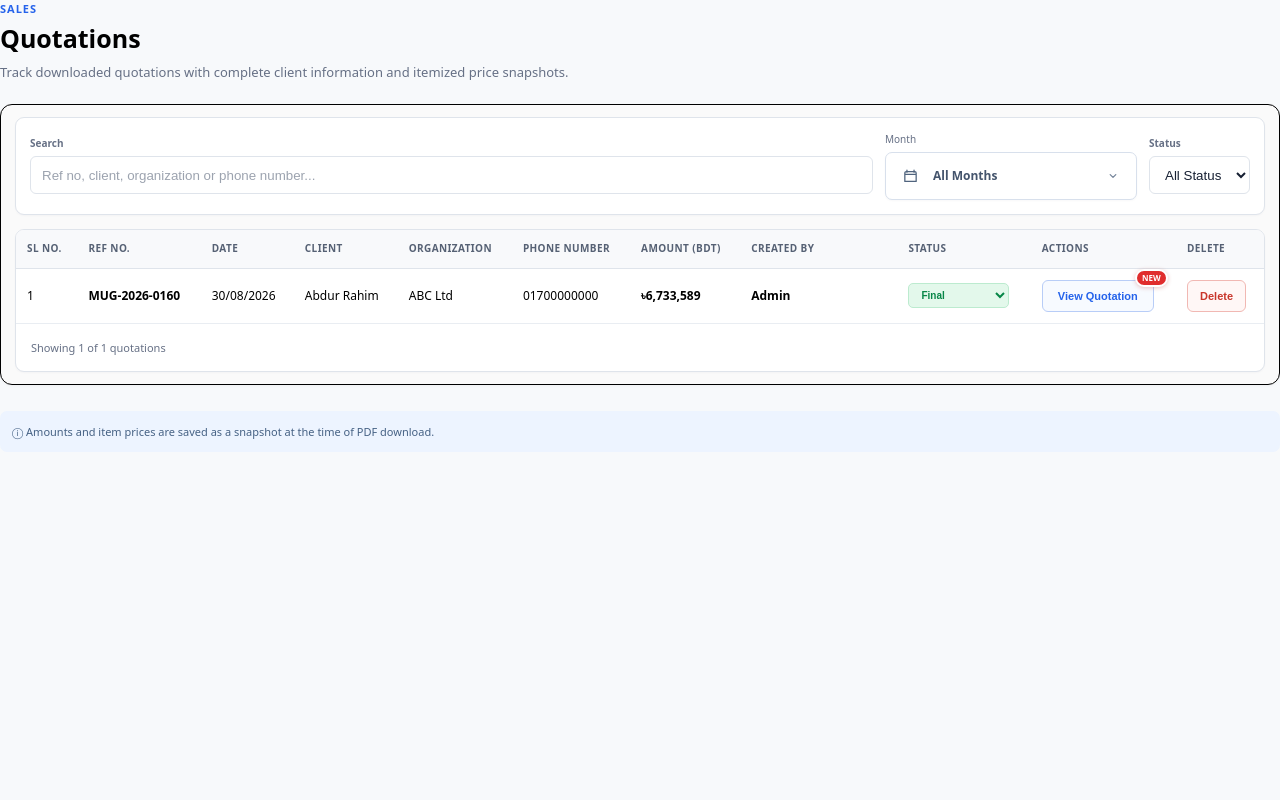
it: opens quotation details in a constrained modal preview and closes it with Escape
The width and height of the screenshot is (1280, 800).
Expected: the heading "Quotation Details" is not shown
Click the button "View Quotation" at (1098, 296), box [1042,280,1154,312]
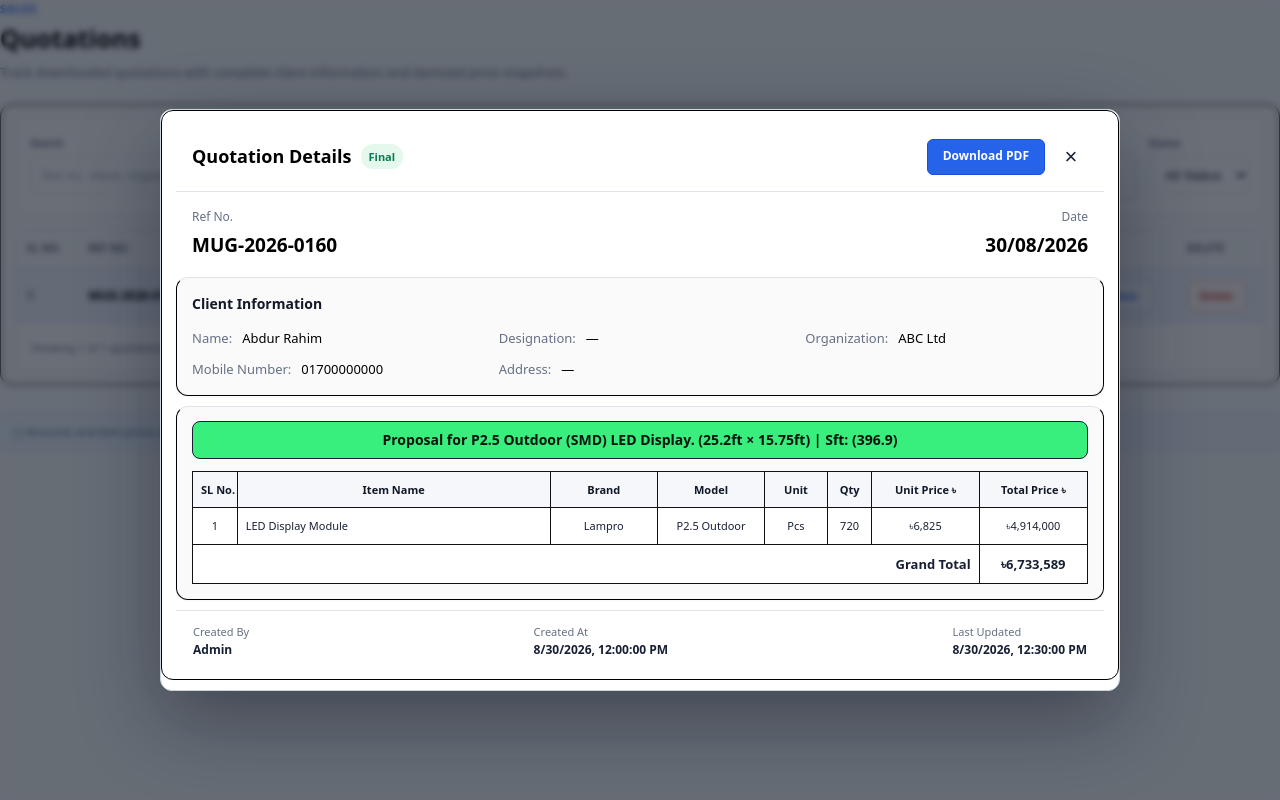
Expected: the heading "Quotation Details" is shown, [192,143,352,170]
Expected: the element that starts with "Name:" is shown, [192,329,946,378]
Expected: the text "Name:" is shown, [192,328,232,348]
Press Escape
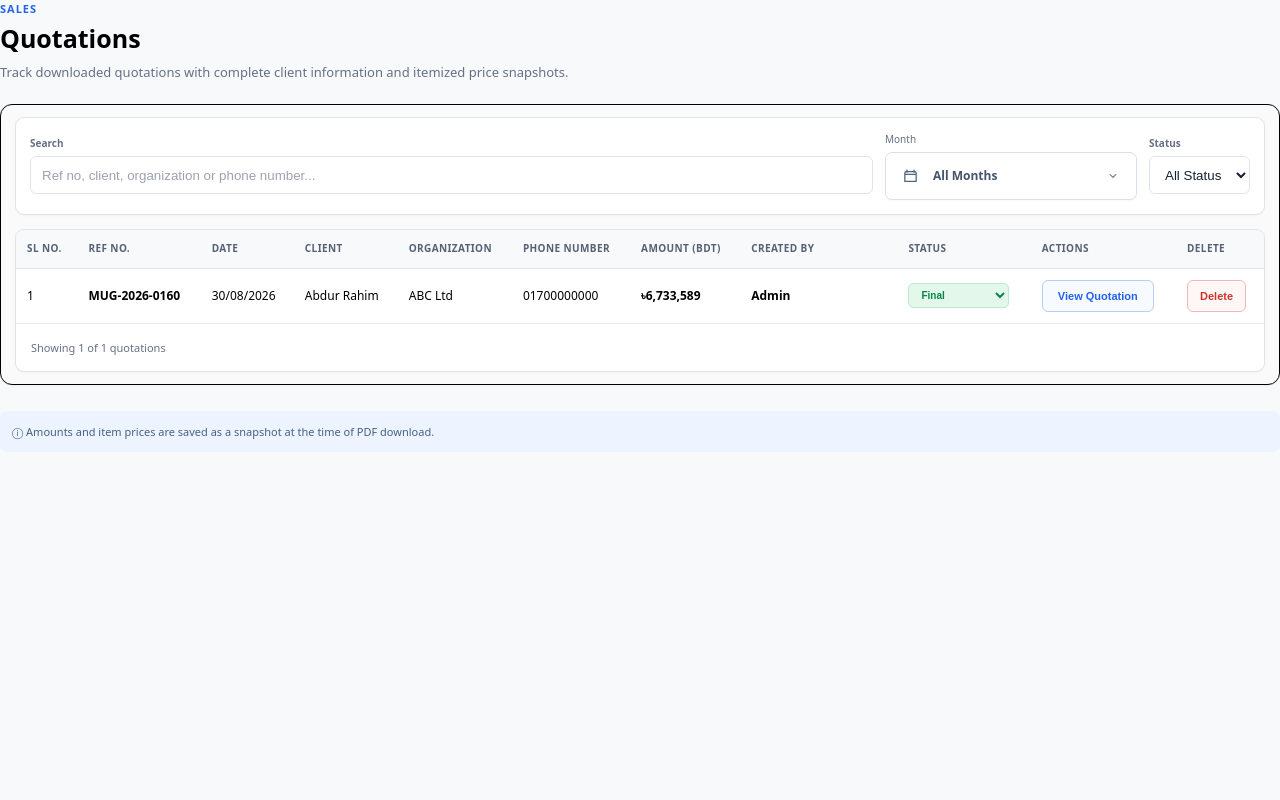
Expected: the heading "Quotation Details" is gone
